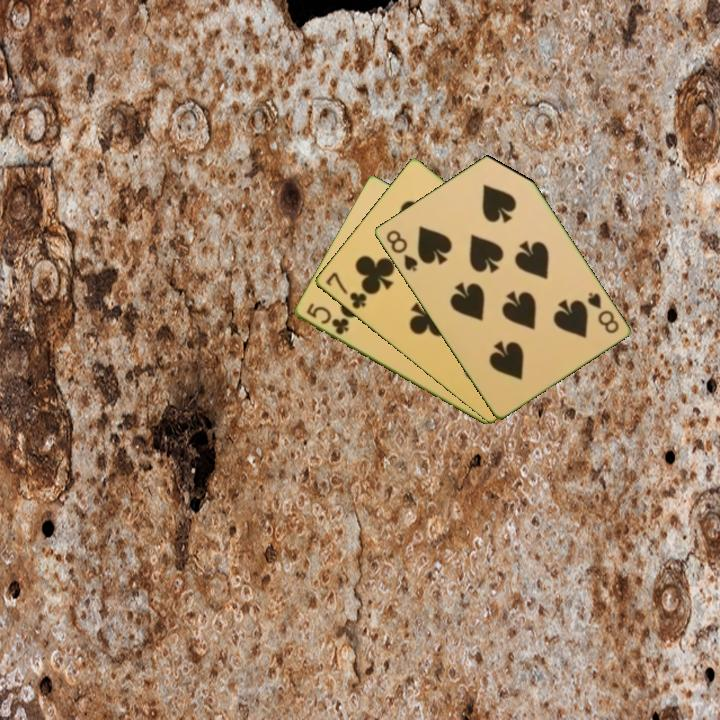5c: (302, 300, 352, 338)
7c: (322, 269, 370, 312)
8s: (583, 288, 622, 336), (382, 226, 420, 274)
